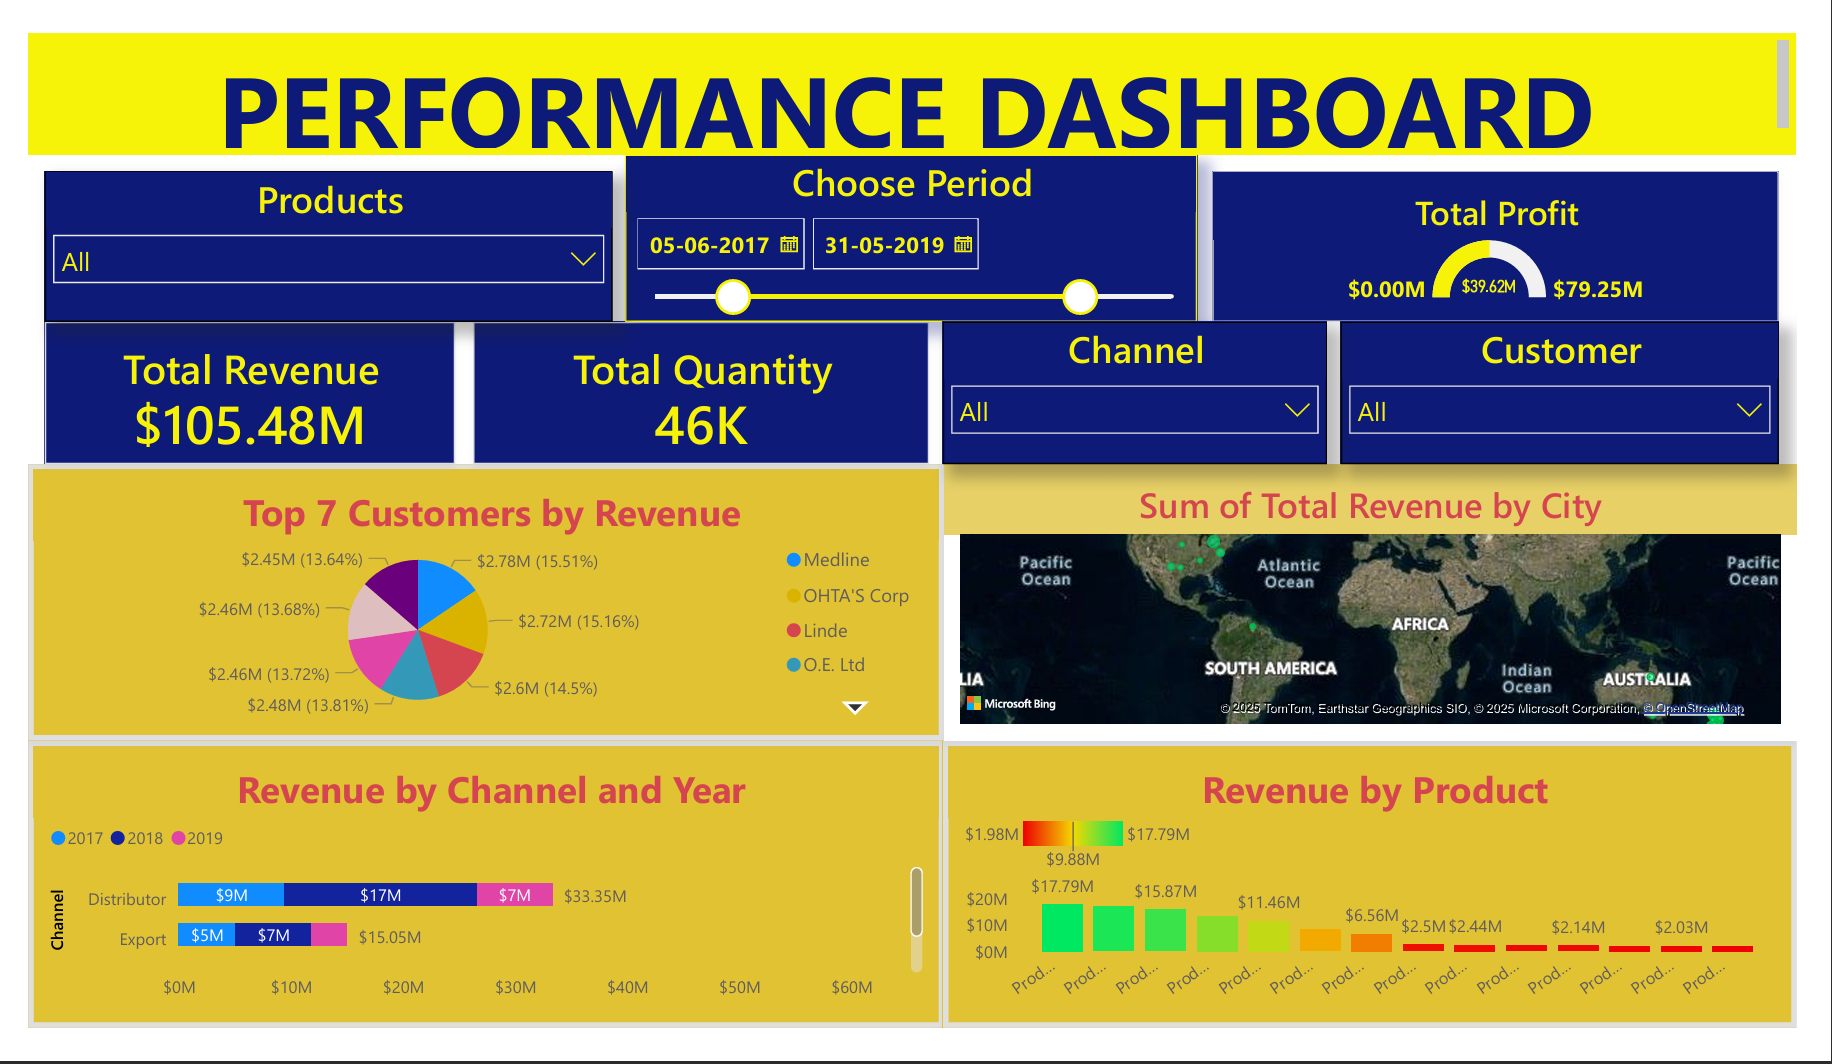

This screenshot's page, from the dashboard's own definition file:
{"tool":"powerbi","page":{"name":"Page 1","canvas":[1280,720],"ordinal":0},"visuals":[{"type":"barChart","title":" Revenue by Channel and Year","fields":{"Category":["Sales_Data.Channel"],"Y":["Sum(Sales_Data.Total Revenue)"],"Series":["Sales_Data.OrderDate.Variation.Date Hierarchy.Year"]},"box":[0,511.8,663.2,207.9],"z":0},{"type":"columnChart","title":"Revenue  by Product","fields":{"Category":["Products_Data.Product Name"],"Y":["Sum(Sales_Data.Total Revenue)"]},"box":[661.8,511.8,618.4,207.9],"z":1000},{"type":"pieChart","title":"Top 7 Customers by  Revenue","fields":{"Category":["Customer_Data.Customer Names"],"Y":["Sum(Sales_Data.Total Revenue)"]},"box":[0,311.8,663.2,200],"z":2000},{"type":"map","fields":{"Category":["Regions_Table.City"],"Size":["Sum(Sales_Data.Total Revenue)"]},"box":[662.8,311.8,617.5,200.5],"z":3000},{"type":"card","title":"Total Revenue","fields":{"Values":["Sum(Sales_Data.Total Revenue)"]},"box":[12.2,209.1,297.1,102.7],"z":4000},{"type":"card","title":"Total Quantity","fields":{"Values":["Sum(Sales_Data.Order Quantity)"]},"box":[321.6,209.1,330.2,102.7],"z":5000},{"type":"gauge","title":"Total Profit","fields":{"Y":["Sum(Sales_Data.Profit)"]},"box":[857.2,100.3,409.6,108.8],"z":6000},{"type":"slicer","title":"Choose Period","fields":{"Values":["Sales_Data.OrderDate"]},"box":[431.7,88,414.5,121.1],"z":7000},{"type":"slicer","title":"Customer","fields":{"Values":["Customer_Data.Customer Names"]},"box":[950.1,209.1,316.7,102.7],"z":8000},{"type":"slicer","title":"Channel","fields":{"Values":["Sales_Data.Channel"]},"box":[661.6,209.1,278.8,102.7],"z":9000},{"type":"slicer","title":"Products ","fields":{"Values":["Products_Data.Product Name"]},"box":[12.2,100.3,410.9,108.8],"z":10000},{"type":"textbox","box":[0,0,1278.9,88.2],"z":11000}]}

Visuals, with their boxes in screenshot pixels (x1, y1, x2, y2):
" Revenue by Channel and Year" barChart: [x1=38, y1=725, x2=941, y2=1008]
"Revenue  by Product" columnChart: [x1=939, y1=725, x2=1781, y2=1008]
"Top 7 Customers by  Revenue" pieChart: [x1=38, y1=453, x2=941, y2=725]
map - Regions_Table.City x Sum(Sales_Data.Total Revenue): [x1=941, y1=453, x2=1781, y2=726]
"Total Revenue" card: [x1=55, y1=313, x2=459, y2=453]
"Total Quantity" card: [x1=476, y1=313, x2=926, y2=453]
"Total Profit" gauge: [x1=1205, y1=165, x2=1763, y2=313]
"Choose Period" slicer: [x1=626, y1=148, x2=1190, y2=313]
"Customer" slicer: [x1=1332, y1=313, x2=1763, y2=453]
"Channel" slicer: [x1=939, y1=313, x2=1318, y2=453]
"Products " slicer: [x1=55, y1=165, x2=614, y2=313]
textbox: [x1=38, y1=29, x2=1779, y2=149]
